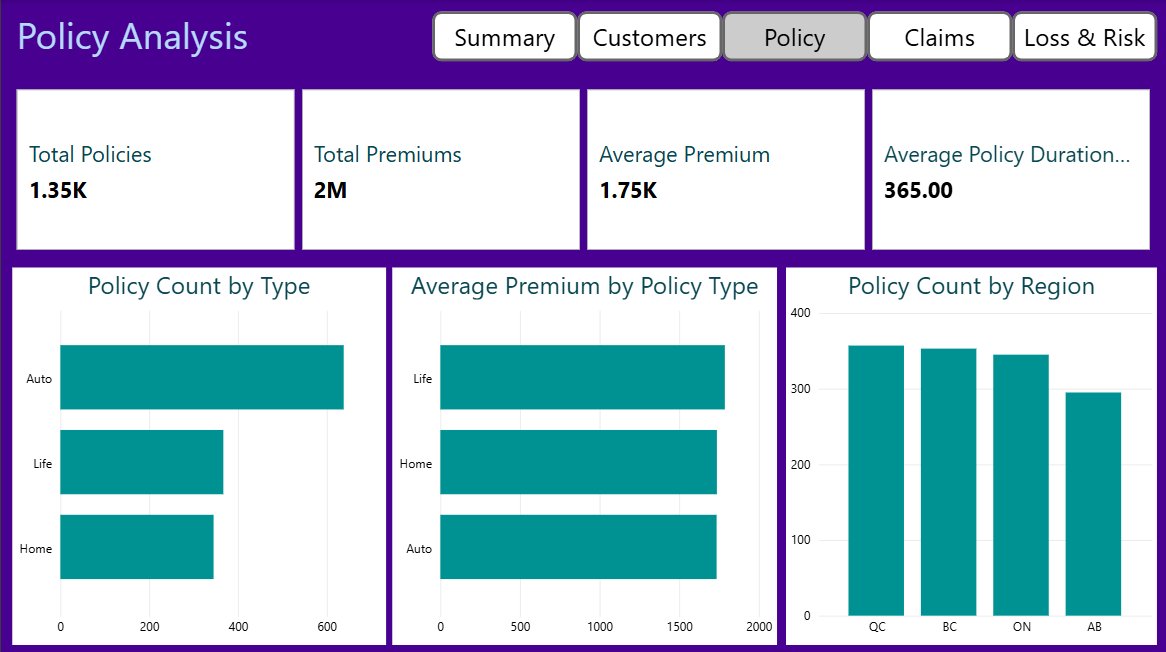

The dashboard page shown, as its layout file describes it:
{"tool":"powerbi","page":{"name":"Policy Analysis","canvas":[1280,720],"ordinal":2},"visuals":[{"type":"cardVisual","fields":{"Data":["Count(policies_clean.policy_id)","Sum(policies_clean.premium_amount)","Avg(policies_clean.premium_amount)","Avg(policies_clean.policy_duration)"]},"box":[12.3,93.3,1255.6,186.6],"z":0},{"type":"clusteredBarChart","title":"Policy Count by Type","fields":{"Category":["policies_clean.policy_type"],"Y":["CountNonNull(policies_clean.policy_id)"]},"box":[12.3,293.7,410.3,414.4],"z":1000},{"type":"clusteredBarChart","title":"Average Premium by Policy Type","fields":{"Category":["policies_clean.policy_type"],"Y":["Avg(policies_clean.premium_amount)"]},"box":[429.5,293.7,422.6,414.4],"z":2000},{"type":"clusteredColumnChart","title":"Policy Count by Region","fields":{"Category":["customers_clean.region"],"Y":["Count(policies_clean.policy_id)"]},"box":[861.8,293.7,407.5,414.4],"z":3000},{"type":"textbox","title":"Policy Analysis","box":[12.3,11,517.3,82.3],"z":4000},{"type":"actionButton","title":"Loss & Risk","box":[1110.1,12.3,159.2,54.9],"z":4001},{"type":"actionButton","title":"Loss & Risk","box":[950.9,12.3,159.2,54.9],"z":4002},{"type":"actionButton","title":"Loss & Risk","box":[791.8,12.3,159.2,54.9],"z":4003},{"type":"actionButton","title":"Loss & Risk","box":[632.6,12.3,159.2,54.9],"z":4004},{"type":"actionButton","title":"Loss & Risk","box":[473.4,12.3,159.2,54.9],"z":4005}]}

Visuals, with their boxes in screenshot pixels (x1, y1, x2, y2), scaled from the page's 1280x720 canvas onto the 1166x652 screenshot:
cardVisual - Count(policies_clean.policy_id) x Sum(policies_clean.premium_amount): box(11, 84, 1155, 253)
"Policy Count by Type" clusteredBarChart: box(11, 266, 385, 641)
"Average Premium by Policy Type" clusteredBarChart: box(391, 266, 776, 641)
"Policy Count by Region" clusteredColumnChart: box(785, 266, 1156, 641)
"Policy Analysis" textbox: box(11, 10, 482, 84)
"Loss & Risk" actionButton: box(1011, 11, 1156, 61)
"Loss & Risk" actionButton: box(866, 11, 1011, 61)
"Loss & Risk" actionButton: box(721, 11, 866, 61)
"Loss & Risk" actionButton: box(576, 11, 721, 61)
"Loss & Risk" actionButton: box(431, 11, 576, 61)
